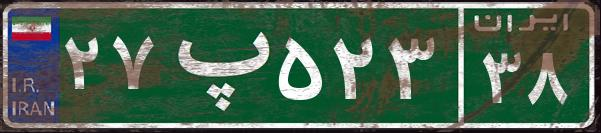2: (330, 28, 385, 110), (57, 26, 110, 107)
3: (385, 28, 445, 110), (475, 38, 525, 113)
5: (273, 28, 330, 110)
7: (110, 28, 158, 105)
8: (525, 38, 570, 115)
پ: (158, 15, 273, 115)
